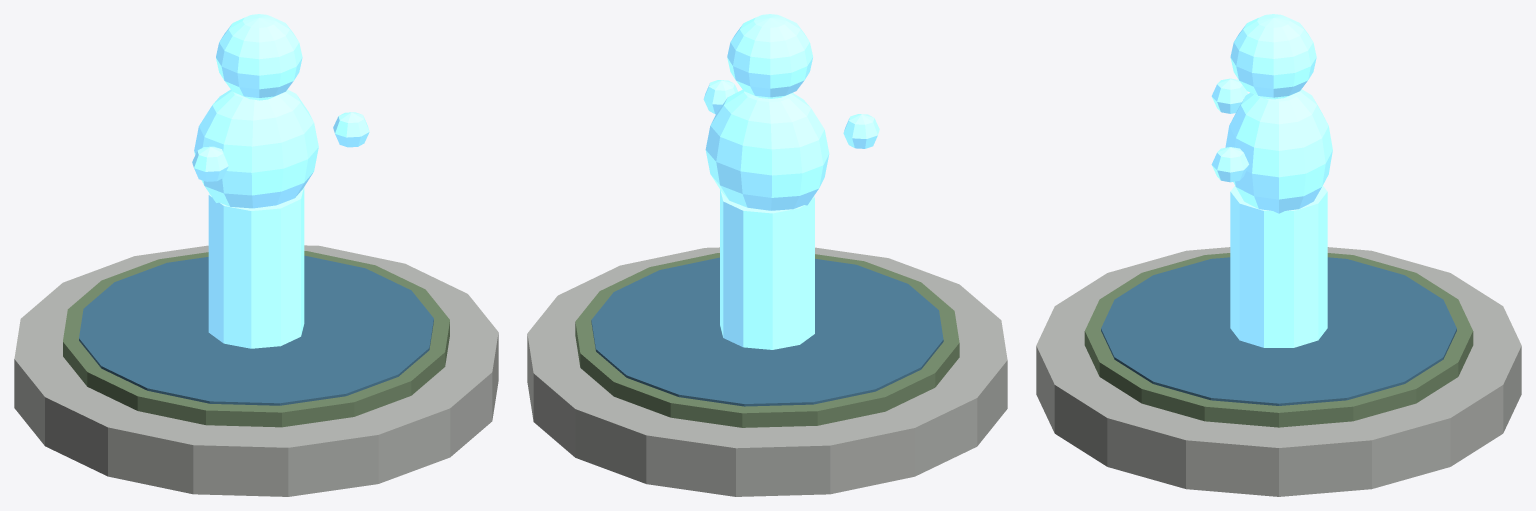
The model's file is elf_water_spirit.glb.
3 views of the same model, side by side, from view 1: azimuth 30°, elevation 25°; view 2: azimuth 150°, elevation 25°; view 3: azimuth 270°, elevation 25° (orthographic).
Visible parts, largest first — view 1: elf_water_spiritMesh, SpiritGlow; view 2: elf_water_spiritMesh, SpiritGlow; view 3: elf_water_spiritMesh, SpiritGlow.
Part boxes in pixels (x1,y1,x2,y2): elf_water_spiritMesh: (14, 245, 498, 496); SpiritGlow: (192, 14, 369, 348); elf_water_spiritMesh: (527, 247, 1007, 496); SpiritGlow: (703, 14, 879, 349); elf_water_spiritMesh: (1036, 247, 1521, 496); SpiritGlow: (1211, 14, 1332, 347).
Size of the model in its own units: 1.8 by 1.54 by 1.8.
